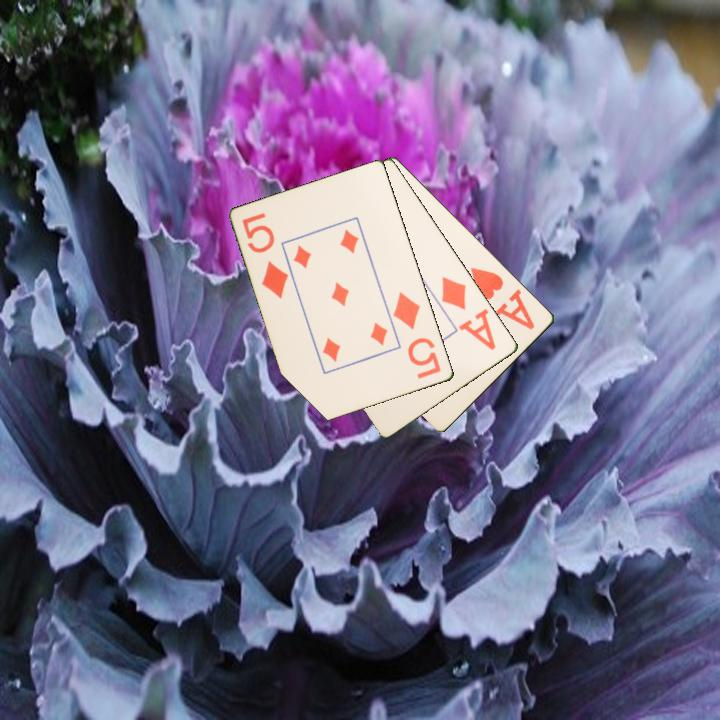5d: (390, 288, 444, 382), (239, 209, 292, 301)
Ad: (438, 273, 499, 353)
Ah: (467, 263, 538, 333)
